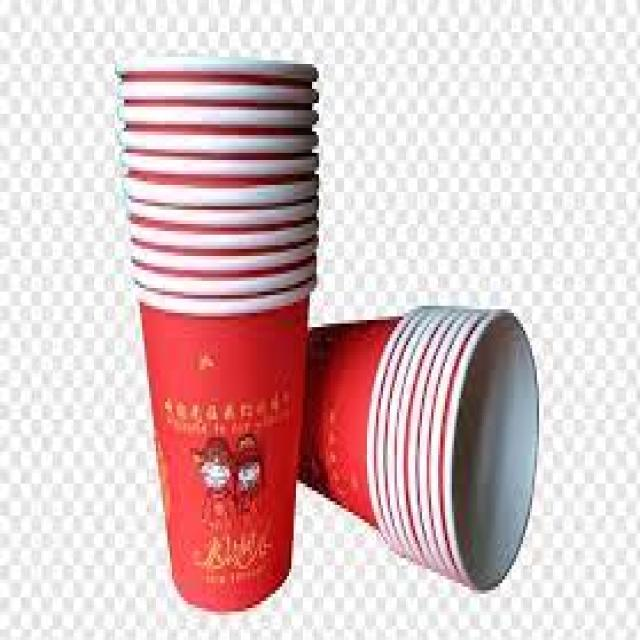PaperCardboard: (117, 52, 318, 607), (297, 304, 540, 590)
